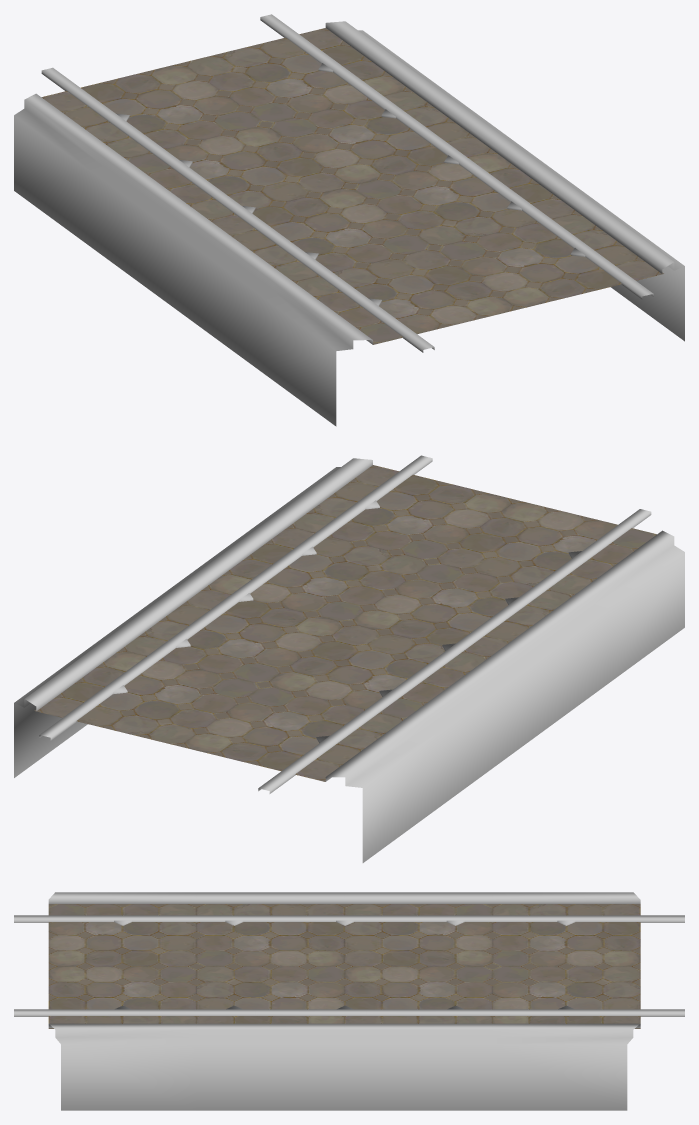
File: t_pngtai08.FBX
3 renders of one model, top to bottom at view 1: azimuth 30°, elevation 25°; view 2: azimuth 150°, elevation 25°; view 3: azimuth 270°, elevation 25°, orthographic. The views are drawn at different scales.
Parts seen in each view (by area): view 1: t_pngtai08_dimian, t_pngtai08_qiang; view 2: t_pngtai08_dimian, t_pngtai08_qiang; view 3: t_pngtai08_qiang, t_pngtai08_dimian.
Part boxes in pixels (left/top/right/bottom): t_pngtai08_dimian: left=41, top=28, right=663, bottom=344; t_pngtai08_qiang: left=14, top=14, right=684, bottom=426; t_pngtai08_dimian: left=34, top=465, right=656, bottom=781; t_pngtai08_qiang: left=14, top=455, right=684, bottom=862; t_pngtai08_qiang: left=14, top=892, right=684, bottom=1110; t_pngtai08_dimian: left=48, top=904, right=640, bottom=1028.
Bounding box in the file's own units: 1444 × 338 × 2738.
